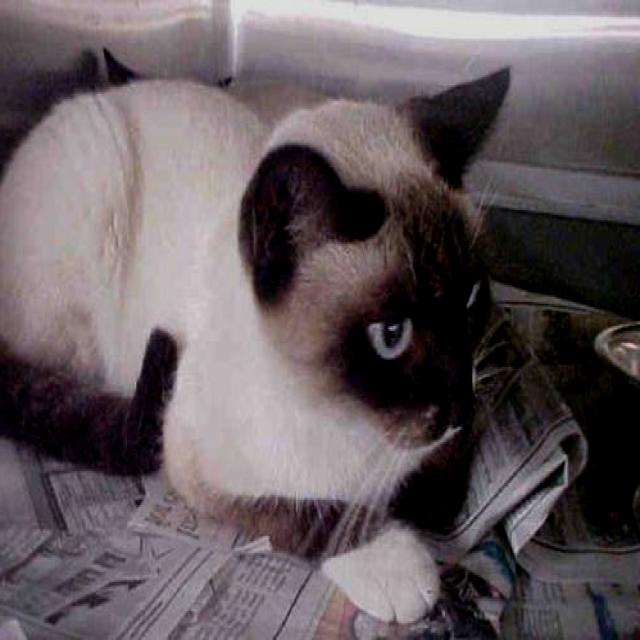Kucing: (0, 28, 557, 621)
